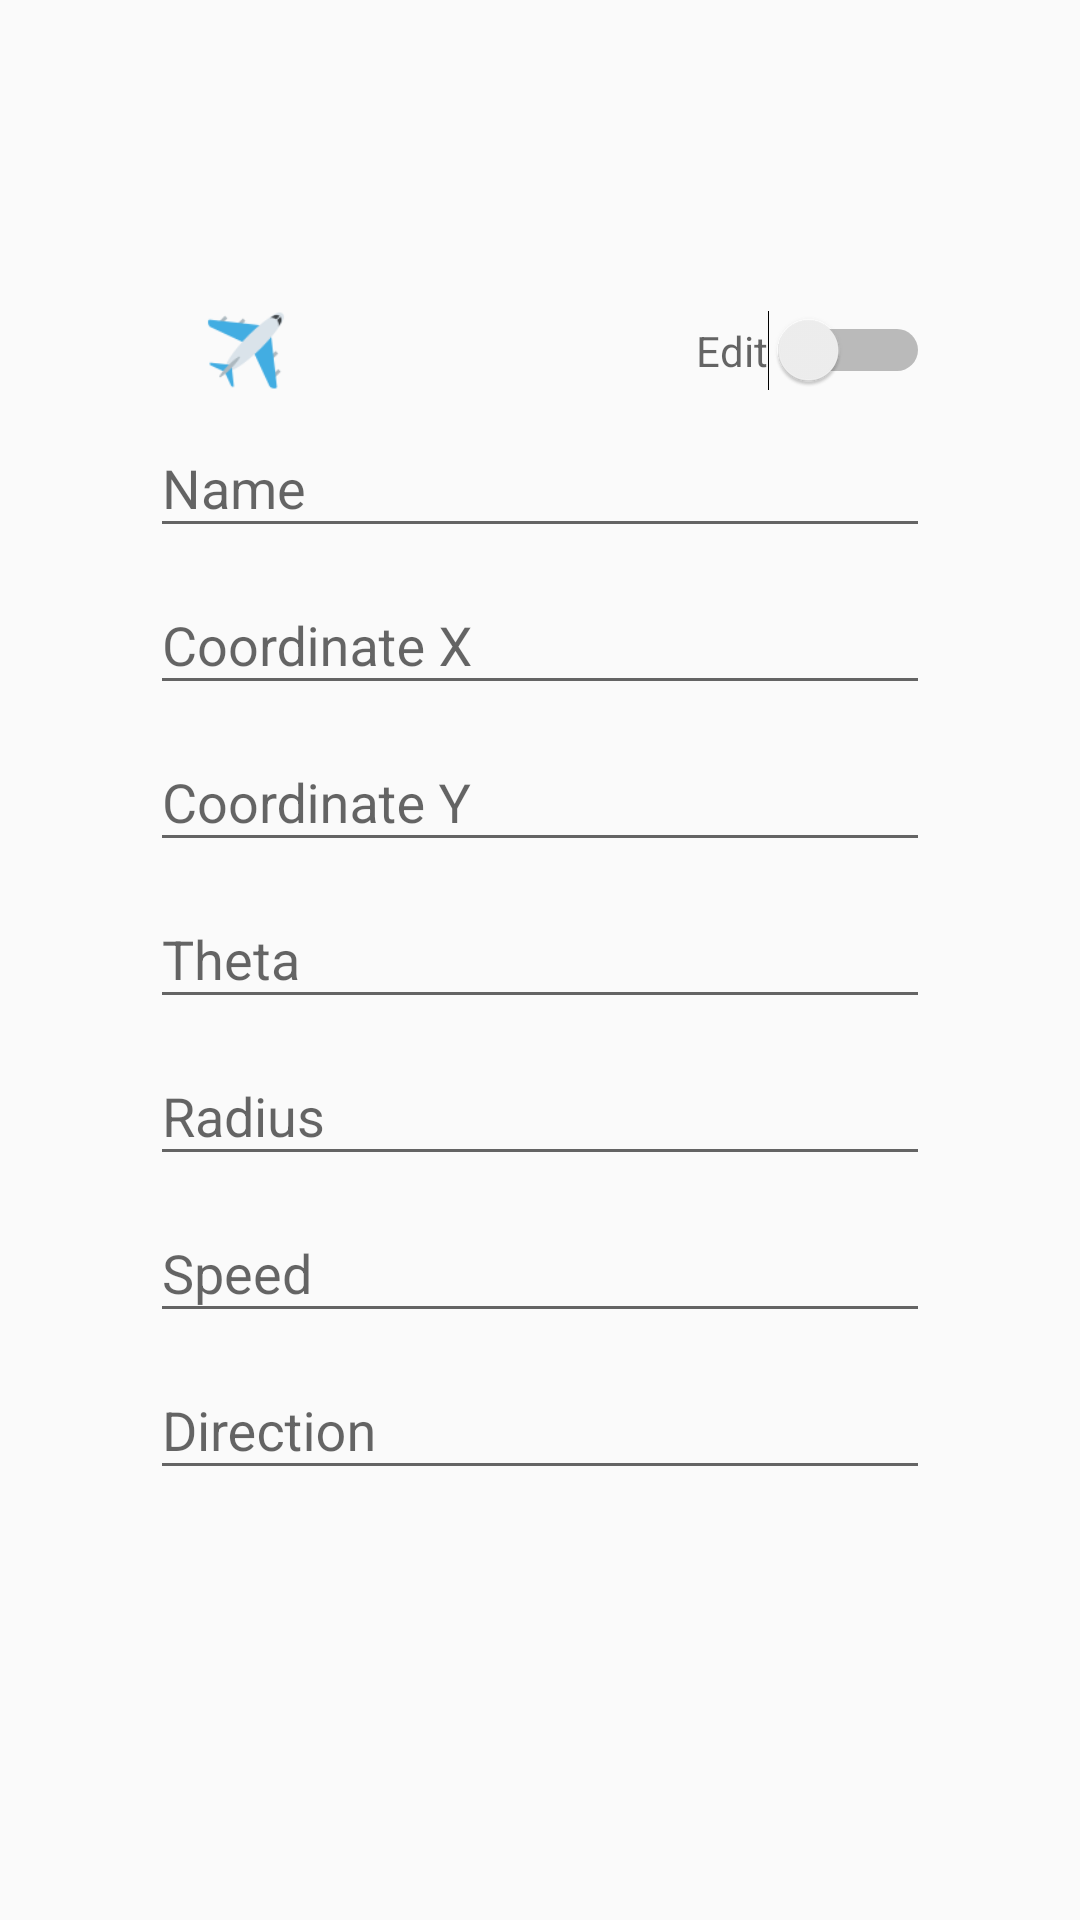

Where icons sit on this 1080×1920 app screen, as (x1, y1, x2, y2):
airplane top: (208, 313, 284, 389)
